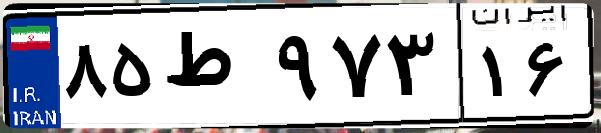1: (475, 38, 525, 113)
3: (385, 28, 445, 110)
5: (110, 28, 158, 98)
6: (525, 38, 570, 115)
7: (330, 28, 385, 110)
8: (57, 26, 110, 100)
9: (270, 28, 330, 110)
ط: (158, 20, 270, 120)
